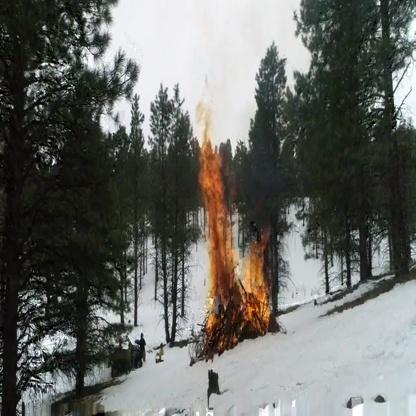Fire: (193, 83, 272, 357)
